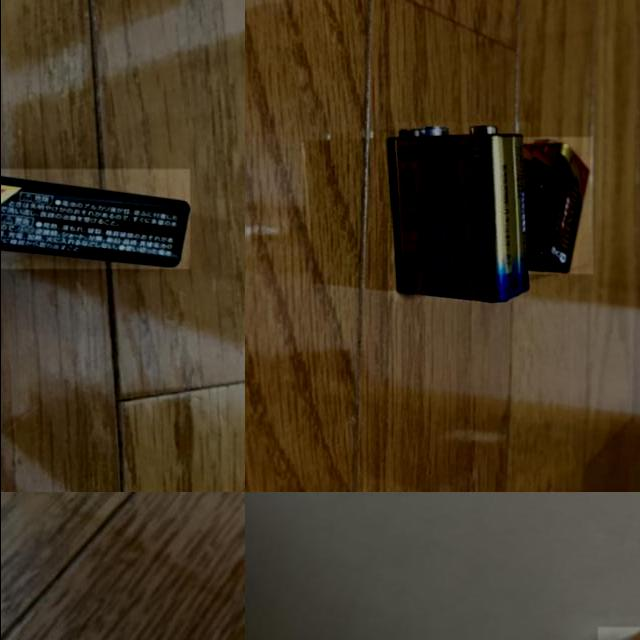9V: (390, 122, 528, 302), (0, 169, 189, 268), (493, 137, 592, 274)
